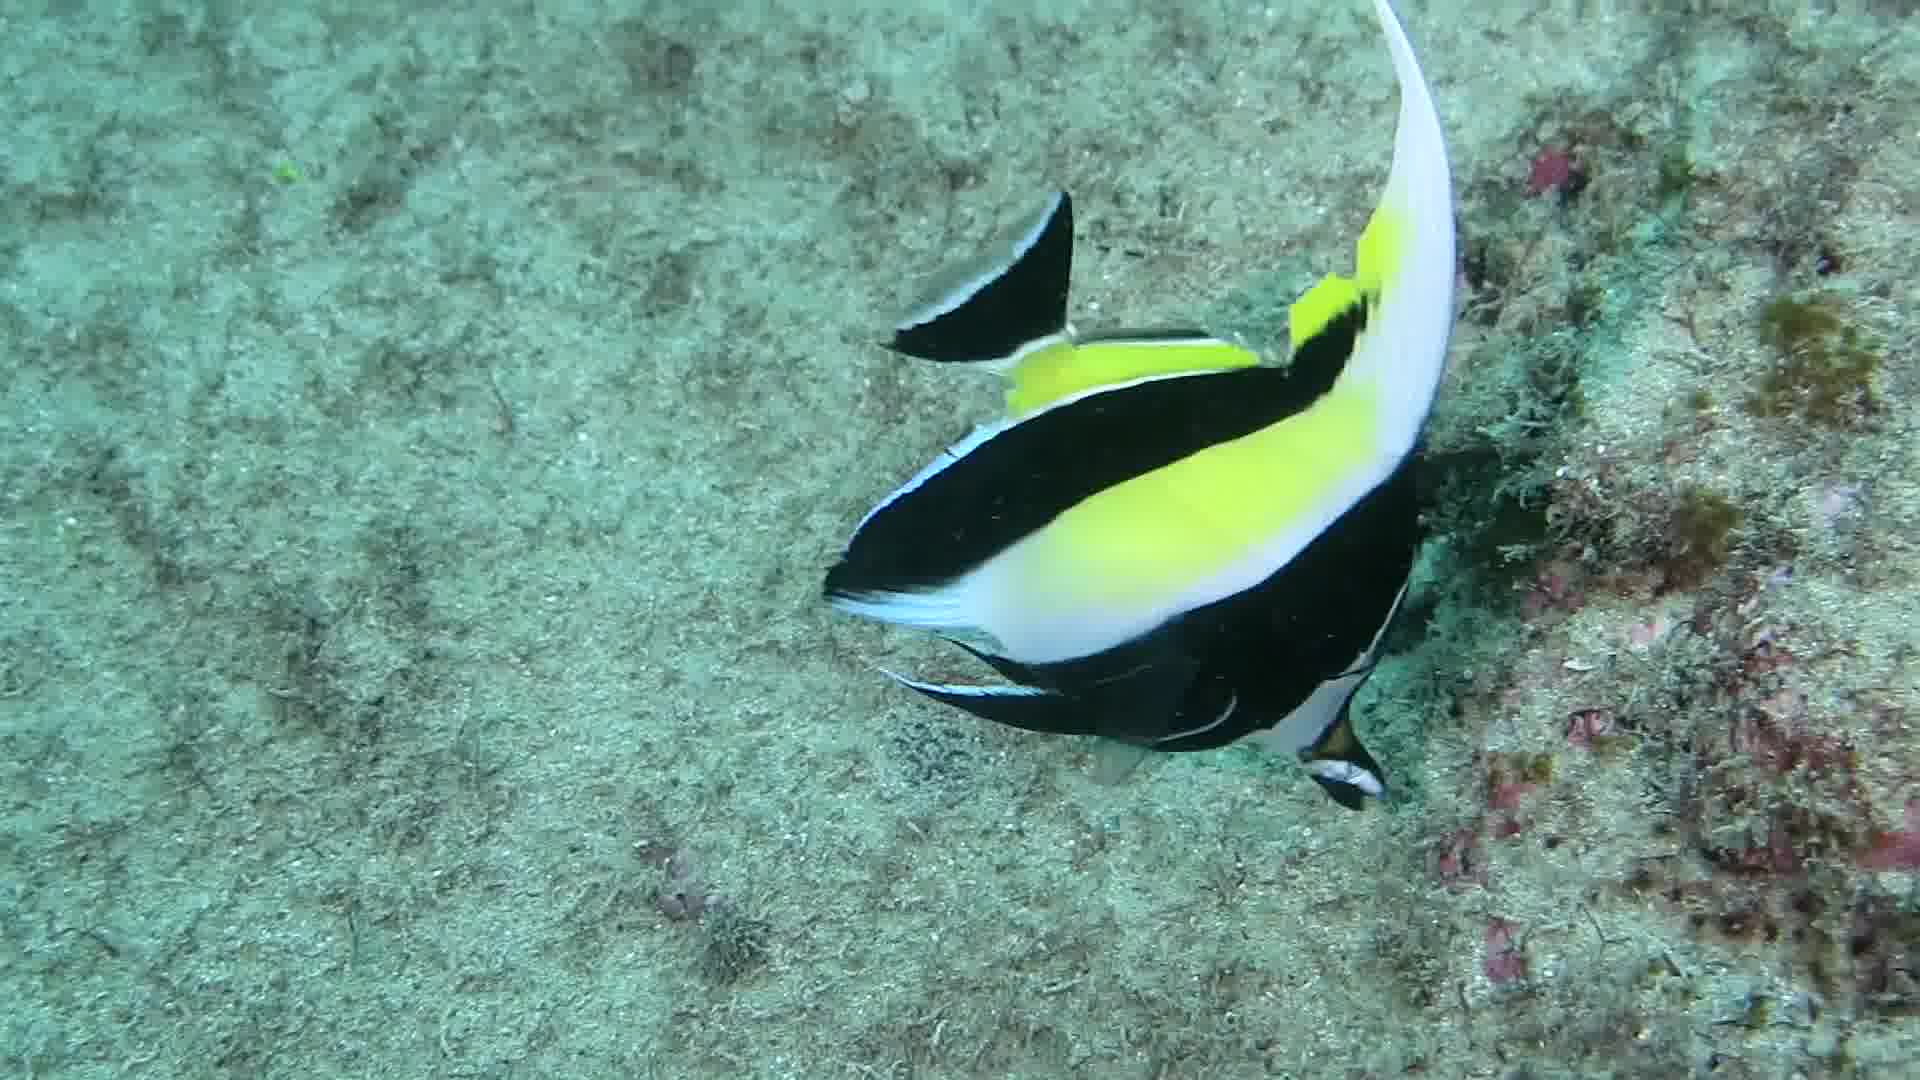Zanclus cornutus: (798, 204, 1563, 829)
